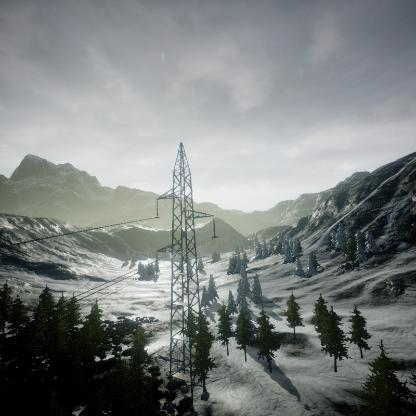tower: (153, 140, 220, 400)
